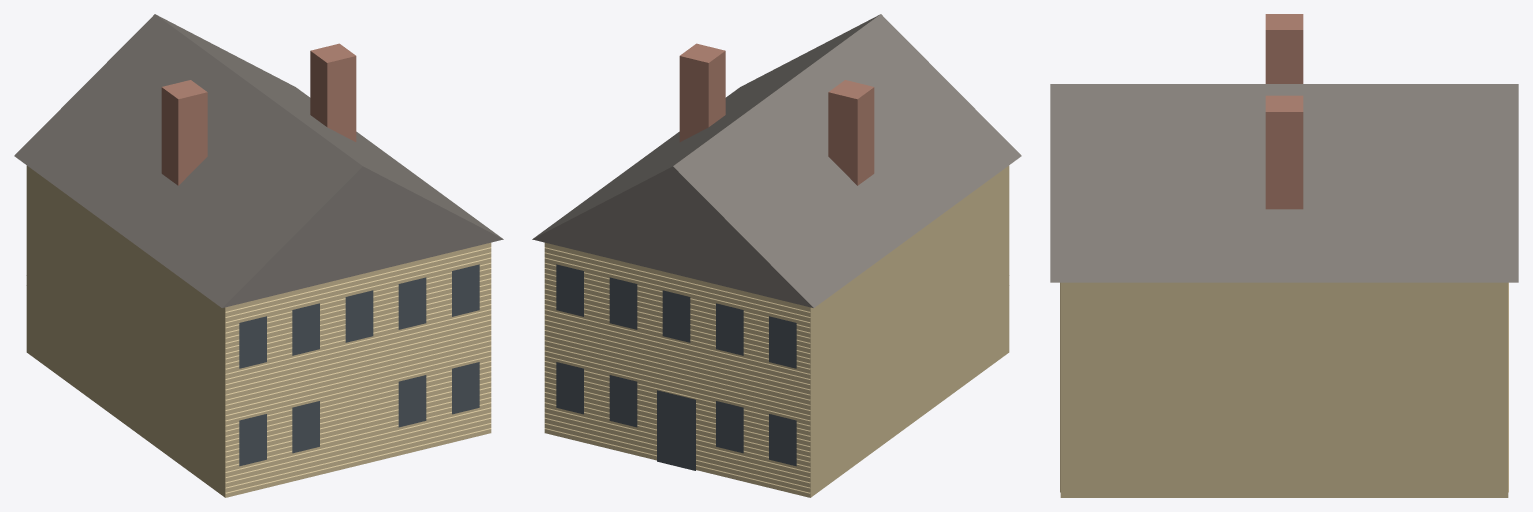
The model's file is recon_1835_north_h2_030__inferred_1835.glb.
3 views of the same model, side by side, from view 1: azimuth 30°, elevation 25°; view 2: azimuth 150°, elevation 25°; view 3: azimuth 270°, elevation 25° (orthographic). The views are drawn at different scales.
Parts seen in each view (by area): view 1: recon_1835_north_h2_030__inferred_1835; view 2: recon_1835_north_h2_030__inferred_1835; view 3: recon_1835_north_h2_030__inferred_1835.
Boxes of the visible parts, x1,y1,x2,y2 form: recon_1835_north_h2_030__inferred_1835: [14, 14, 503, 497]; recon_1835_north_h2_030__inferred_1835: [532, 14, 1021, 497]; recon_1835_north_h2_030__inferred_1835: [1050, 14, 1518, 497].
Bounding box in the file's own units: 8.68 × 9.46 × 11.09.
